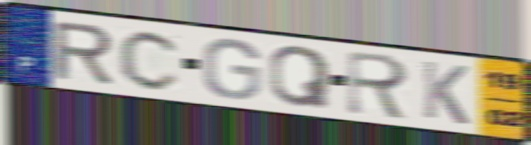C: (117, 28, 184, 92)
G: (200, 37, 264, 102)
K: (419, 58, 471, 128)
Q: (268, 44, 333, 111)
R: (344, 48, 412, 123), (50, 20, 116, 85)
